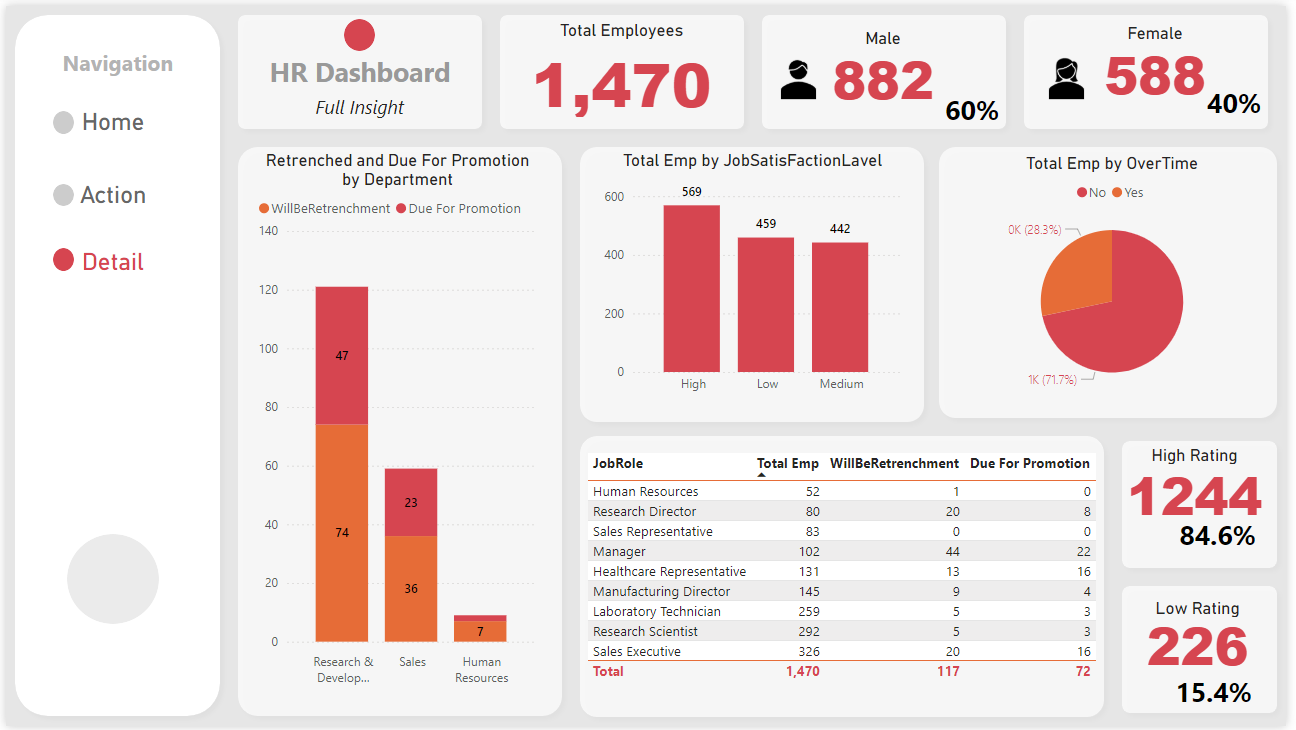

Layout of this report page (visuals, bound fields, positions):
{"tool":"powerbi","page":{"name":"Detail","canvas":[1280,720],"ordinal":2},"visuals":[{"type":"shape","box":[0,0,223,719],"z":0,"group":"g1"},{"type":"shape","box":[223,0,262,132],"z":0},{"type":"shape","box":[485,0,262,132],"z":1000},{"type":"shape","box":[747,0,262,132],"z":2000},{"type":"shape","box":[1009,0,262,132],"z":3000},{"type":"textbox","box":[223,42,262,48],"z":4000},{"type":"textbox","box":[282,83,143,38],"z":5000},{"type":"shape","box":[338,13,31,32],"z":6000},{"type":"group","id":"g1","title":"Group 2","box":[0,0,222.6,719.1],"z":7000},{"type":"card","title":"Male","fields":{"Values":["All Measures.Male"]},"box":[802.2,22.2,150,80],"z":8000},{"type":"card","title":"Female","fields":{"Values":["All Measures.Female"]},"box":[1061.1,16.7,175.6,81.1],"z":9000},{"type":"card","fields":{"Values":["All Measures.% Male"]},"box":[933.3,83.3,65.6,42.2],"z":10000},{"type":"card","fields":{"Values":["All Measures.% Female"]},"box":[1195.6,78.9,64.4,36.7],"z":11000},{"type":"card","title":"Total Employees","fields":{"Values":["All Measures.Total Emp"]},"box":[507.8,14.4,215.6,101.1],"z":12000},{"type":"image","box":[761.1,41.1,63.3,65.6],"z":13000},{"type":"textbox","box":[13,37,198,38],"z":13501,"group":"g1"},{"type":"image","box":[1028.9,41.1,63.3,65.6],"z":14000},{"type":"shape","box":[564.8,132.1,362.7,292.6],"z":15000},{"type":"shape","box":[222.6,132.1,342.3,587],"z":16000},{"type":"columnChart","title":"Retrenched and Due For Promotion by Department","fields":{"Category":["HR Analytics Data.Department"],"Y":["All Measures.WillBeRetrenchment","All Measures.Due For Promotion"]},"box":[246.5,143.6,290,543.5],"z":17000},{"type":"shape","box":[923.9,132.1,356.5,289.1],"z":18000},{"type":"shape","box":[1106.6,571,173.8,145],"z":19000},{"type":"shape","box":[1106.6,425.6,173.8,145.4],"z":20000},{"type":"columnChart","fields":{"Category":["HR Analytics Data.JobSatisFactionLavel"],"Y":["All Measures.Total Emp"]},"box":[593.2,143.6,306.8,252.7],"z":21000},{"type":"pieChart","fields":{"Category":["HR Analytics Data.OverTime"],"Y":["All Measures.Total Emp"]},"box":[952.3,147.2,307.7,249.2],"z":22000},{"type":"shape","box":[564.8,421.2,541.8,298.8],"z":23000},{"type":"tableEx","fields":{"Values":["HR Analytics Data.JobRole","All Measures.Total Emp","All Measures.WillBeRetrenchment","All Measures.Due For Promotion"]},"box":[576.4,442.5,525.8,256.3],"z":24000},{"type":"card","title":"High Rating","fields":{"Values":["All Measures.% High Rating"]},"box":[1163.3,511.6,96.7,36.4],"z":25000},{"type":"card","fields":{"Values":["All Measures.% Low Rating"]},"box":[1151.8,665,110.8,43.4],"z":26000},{"type":"card","title":"Low Rating","fields":{"Values":["All Measures.Low Rated"]},"box":[1113.7,592.3,155.2,72.7],"z":27000},{"type":"card","title":"High Rating","fields":{"Values":["All Measures.High Rated"]},"box":[1113.7,438.9,149,78.9],"z":28000},{"type":"actionButton","title":"Action","box":[37.4,174.9,139.8,56.7],"z":29000},{"type":"actionButton","title":"Detail","box":[37.4,242.1,139.8,58],"z":30000},{"type":"shape","box":[46.7,177.5,21.1,22.4],"z":31000},{"type":"shape","box":[46.7,242.1,21.1,22.4],"z":32000},{"type":"shape","box":[61.2,528.3,92.3,89.7],"z":33000},{"type":"actionButton","title":"Home","box":[37.2,102,140.1,56.7],"z":34000},{"type":"shape","box":[47,104.6,21.3,23.1],"z":35000}]}

Visuals, with their boxes in screenshot pixels (x1, y1, x2, y2), scaled from the page's 1280x720 canvas onto the 1296x730 screenshot:
shape: <region>0, 0, 226, 729</region>
shape: <region>226, 0, 491, 134</region>
shape: <region>491, 0, 756, 134</region>
shape: <region>756, 0, 1022, 134</region>
shape: <region>1022, 0, 1287, 134</region>
textbox: <region>226, 43, 491, 91</region>
textbox: <region>286, 84, 430, 123</region>
shape: <region>342, 13, 374, 46</region>
"Group 2" group: <region>0, 0, 225, 729</region>
"Male" card: <region>812, 23, 964, 104</region>
"Female" card: <region>1074, 17, 1252, 99</region>
card - All Measures.% Male: <region>945, 84, 1011, 127</region>
card - All Measures.% Female: <region>1211, 80, 1276, 117</region>
"Total Employees" card: <region>514, 15, 732, 117</region>
image: <region>771, 42, 835, 108</region>
textbox: <region>13, 38, 214, 76</region>
image: <region>1042, 42, 1106, 108</region>
shape: <region>572, 134, 939, 431</region>
shape: <region>225, 134, 572, 729</region>
"Retrenched and Due For Promotion by Department" columnChart: <region>250, 146, 543, 697</region>
shape: <region>935, 134, 1295, 427</region>
shape: <region>1120, 579, 1295, 726</region>
shape: <region>1120, 432, 1295, 579</region>
columnChart - HR Analytics Data.JobSatisFactionLavel x All Measures.Total Emp: <region>601, 146, 911, 402</region>
pieChart - HR Analytics Data.OverTime x All Measures.Total Emp: <region>964, 149, 1276, 402</region>
shape: <region>572, 427, 1120, 729</region>
tableEx - HR Analytics Data.JobRole x All Measures.Total Emp: <region>584, 449, 1116, 709</region>
"High Rating" card: <region>1178, 519, 1276, 556</region>
card - All Measures.% Low Rating: <region>1166, 674, 1278, 718</region>
"Low Rating" card: <region>1128, 601, 1285, 674</region>
"High Rating" card: <region>1128, 445, 1278, 525</region>
"Action" actionButton: <region>38, 177, 179, 235</region>
"Detail" actionButton: <region>38, 245, 179, 304</region>
shape: <region>47, 180, 69, 203</region>
shape: <region>47, 245, 69, 268</region>
shape: <region>62, 536, 155, 627</region>
"Home" actionButton: <region>38, 103, 180, 161</region>
shape: <region>48, 106, 69, 129</region>
